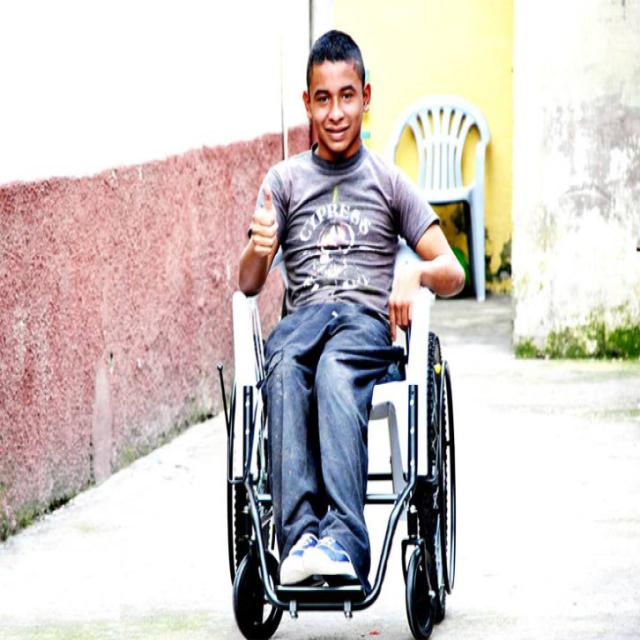wheelchair: (217, 27, 458, 634)
